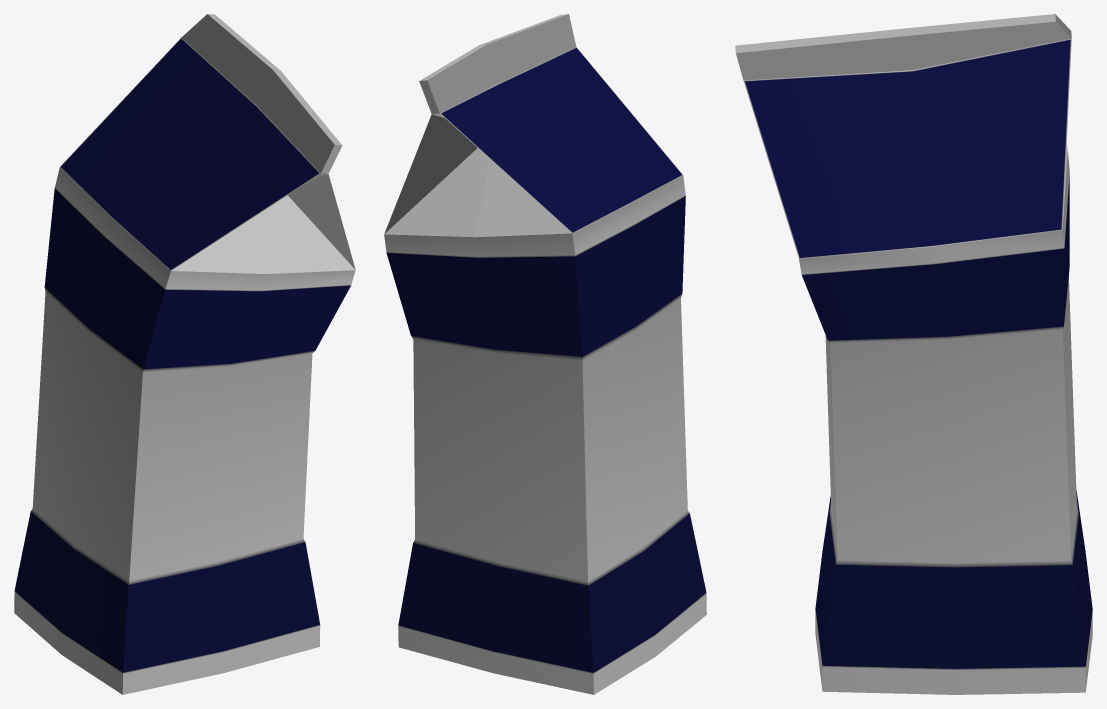
The model's file is milkCarton.fbx.
3 views of the same model, side by side, from view 1: azimuth 30°, elevation 25°; view 2: azimuth 150°, elevation 25°; view 3: azimuth 270°, elevation 25° (orthographic). The views are drawn at different scales.
Visible parts, largest first — view 1: milkCarton; view 2: milkCarton; view 3: milkCarton.
Boxes of the visible parts, left/top/right/bottom form: milkCarton: left=14, top=14, right=355, bottom=694; milkCarton: left=384, top=14, right=706, bottom=694; milkCarton: left=735, top=14, right=1092, bottom=694.
Bounding box in the file's own units: 186 × 431 × 208.
